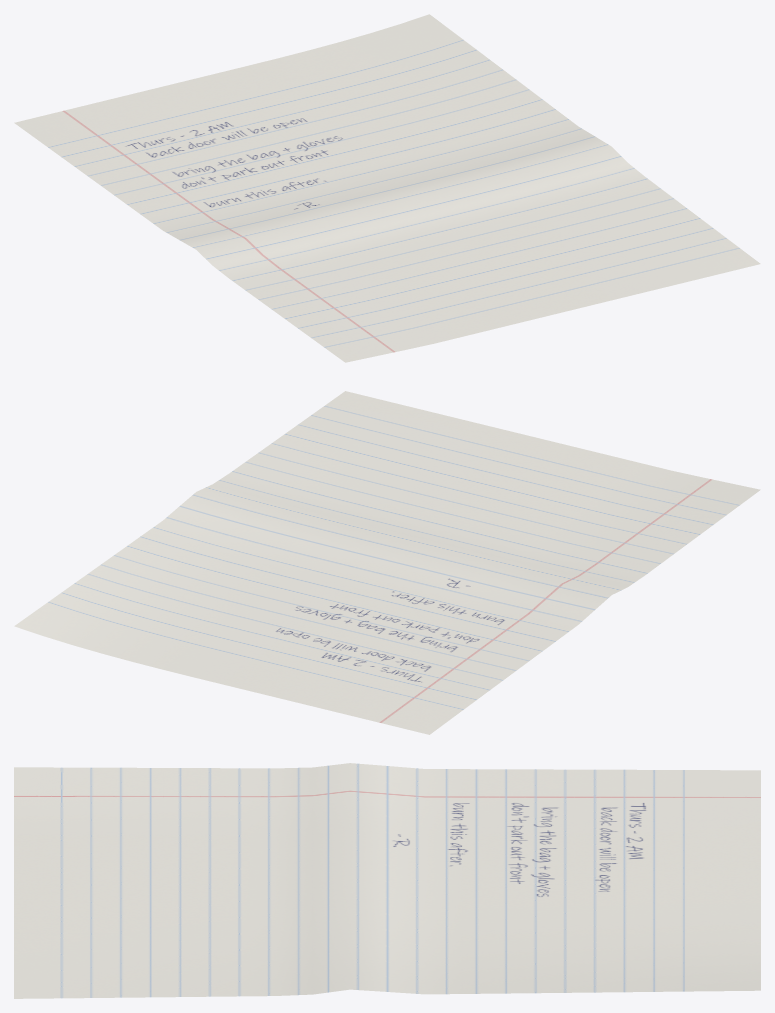
Rendered from questioned_document.glb.
3 renders of one model, top to bottom at view 1: azimuth 30°, elevation 25°; view 2: azimuth 150°, elevation 25°; view 3: azimuth 270°, elevation 25°, orthographic. The views are drawn at different scales.
Visible parts, largest first — view 1: questioned_document; view 2: questioned_document; view 3: questioned_document.
Boxes of the visible parts, x1,y1,x2,y2 form: questioned_document: (14, 14, 760, 362); questioned_document: (14, 391, 760, 734); questioned_document: (14, 763, 760, 998).
Size of the model in its own units: 0.21 by 0.00398 by 0.29.
Materials: 1 (1 with a texture image).
